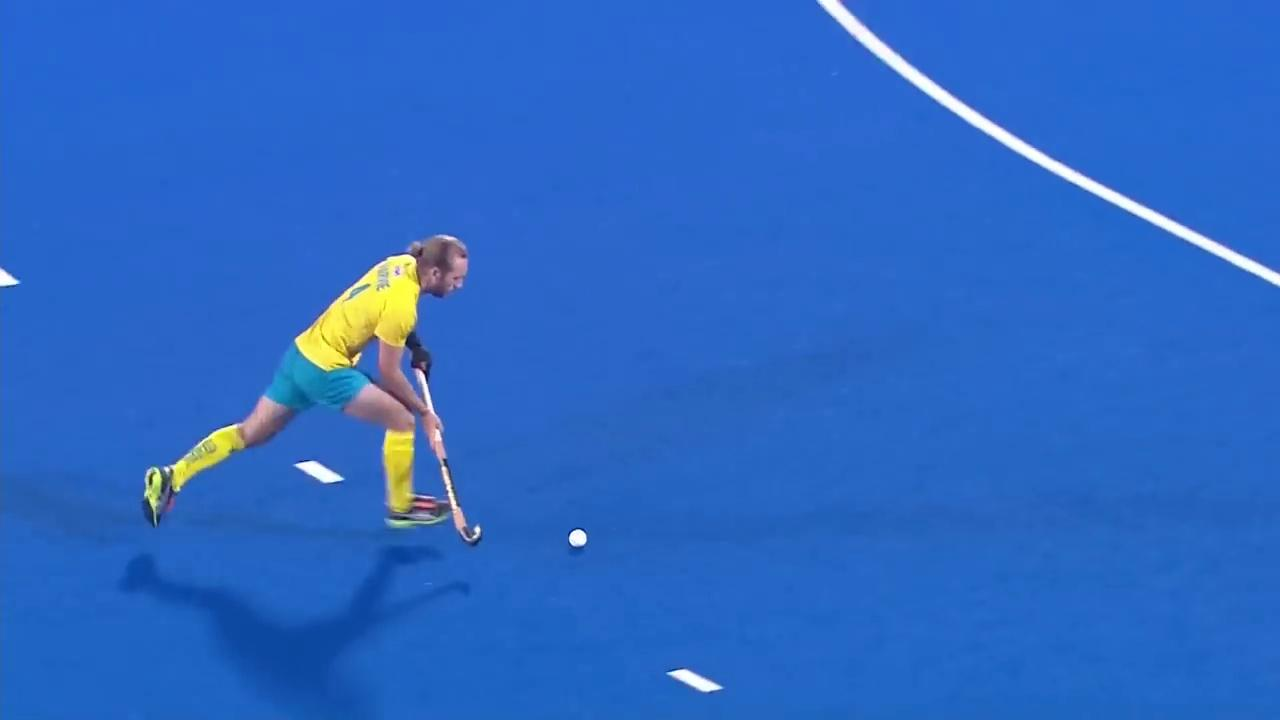ball: (555, 519, 621, 564)
